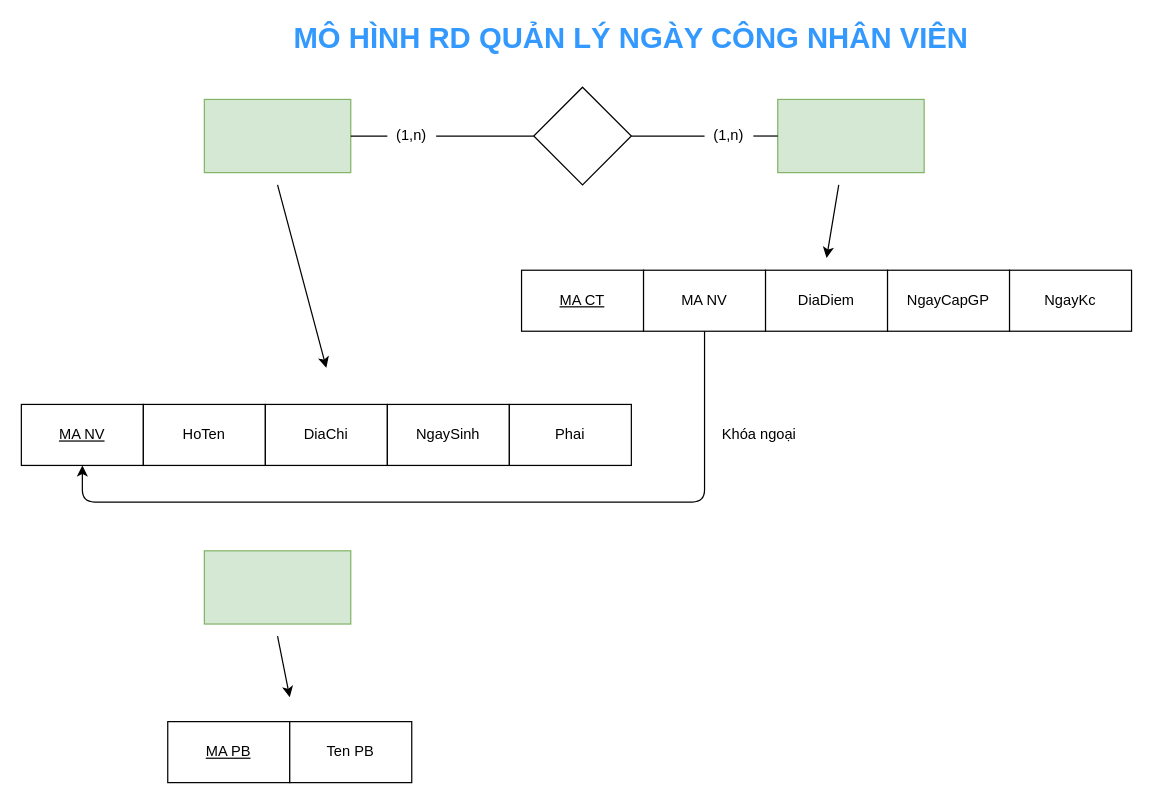
This 1153x804 diagram has some shape labels left out. The box of each missing label's shape, as (x1, y1, x2, y2) in pixels:
CONGTRINH: (777, 98, 924, 173)
NHANVIEN: (203, 98, 351, 173)
PHONGBAN: (203, 550, 351, 624)
Tham gia: (533, 86, 631, 185)
